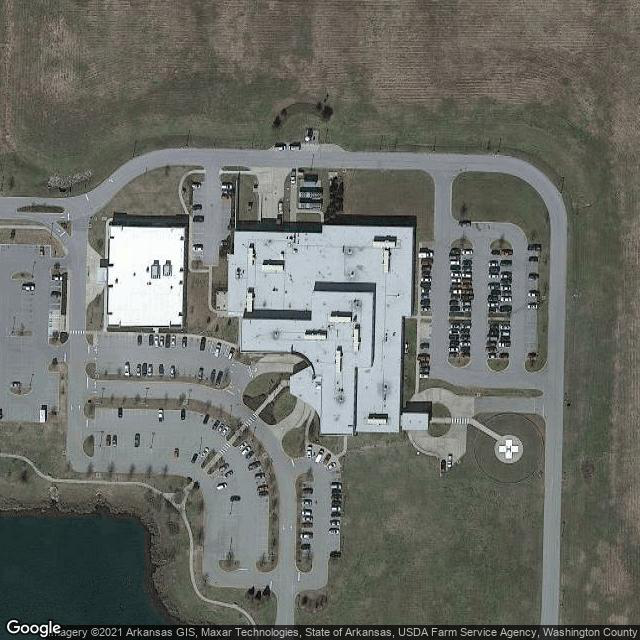Helipad: (492, 434, 522, 462)
